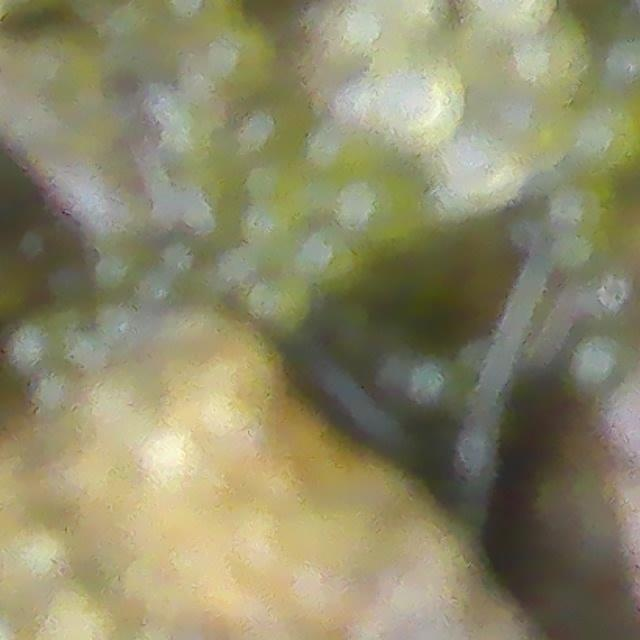SeaGrape: (352, 54, 475, 150), (438, 137, 521, 210), (245, 267, 317, 341)
